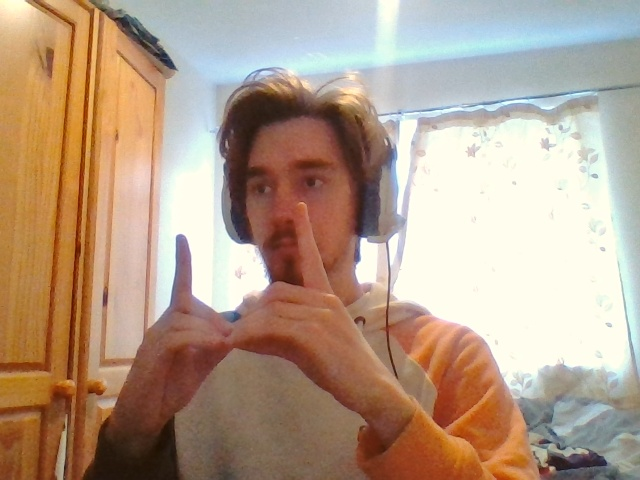meet: (165, 203, 320, 352)
